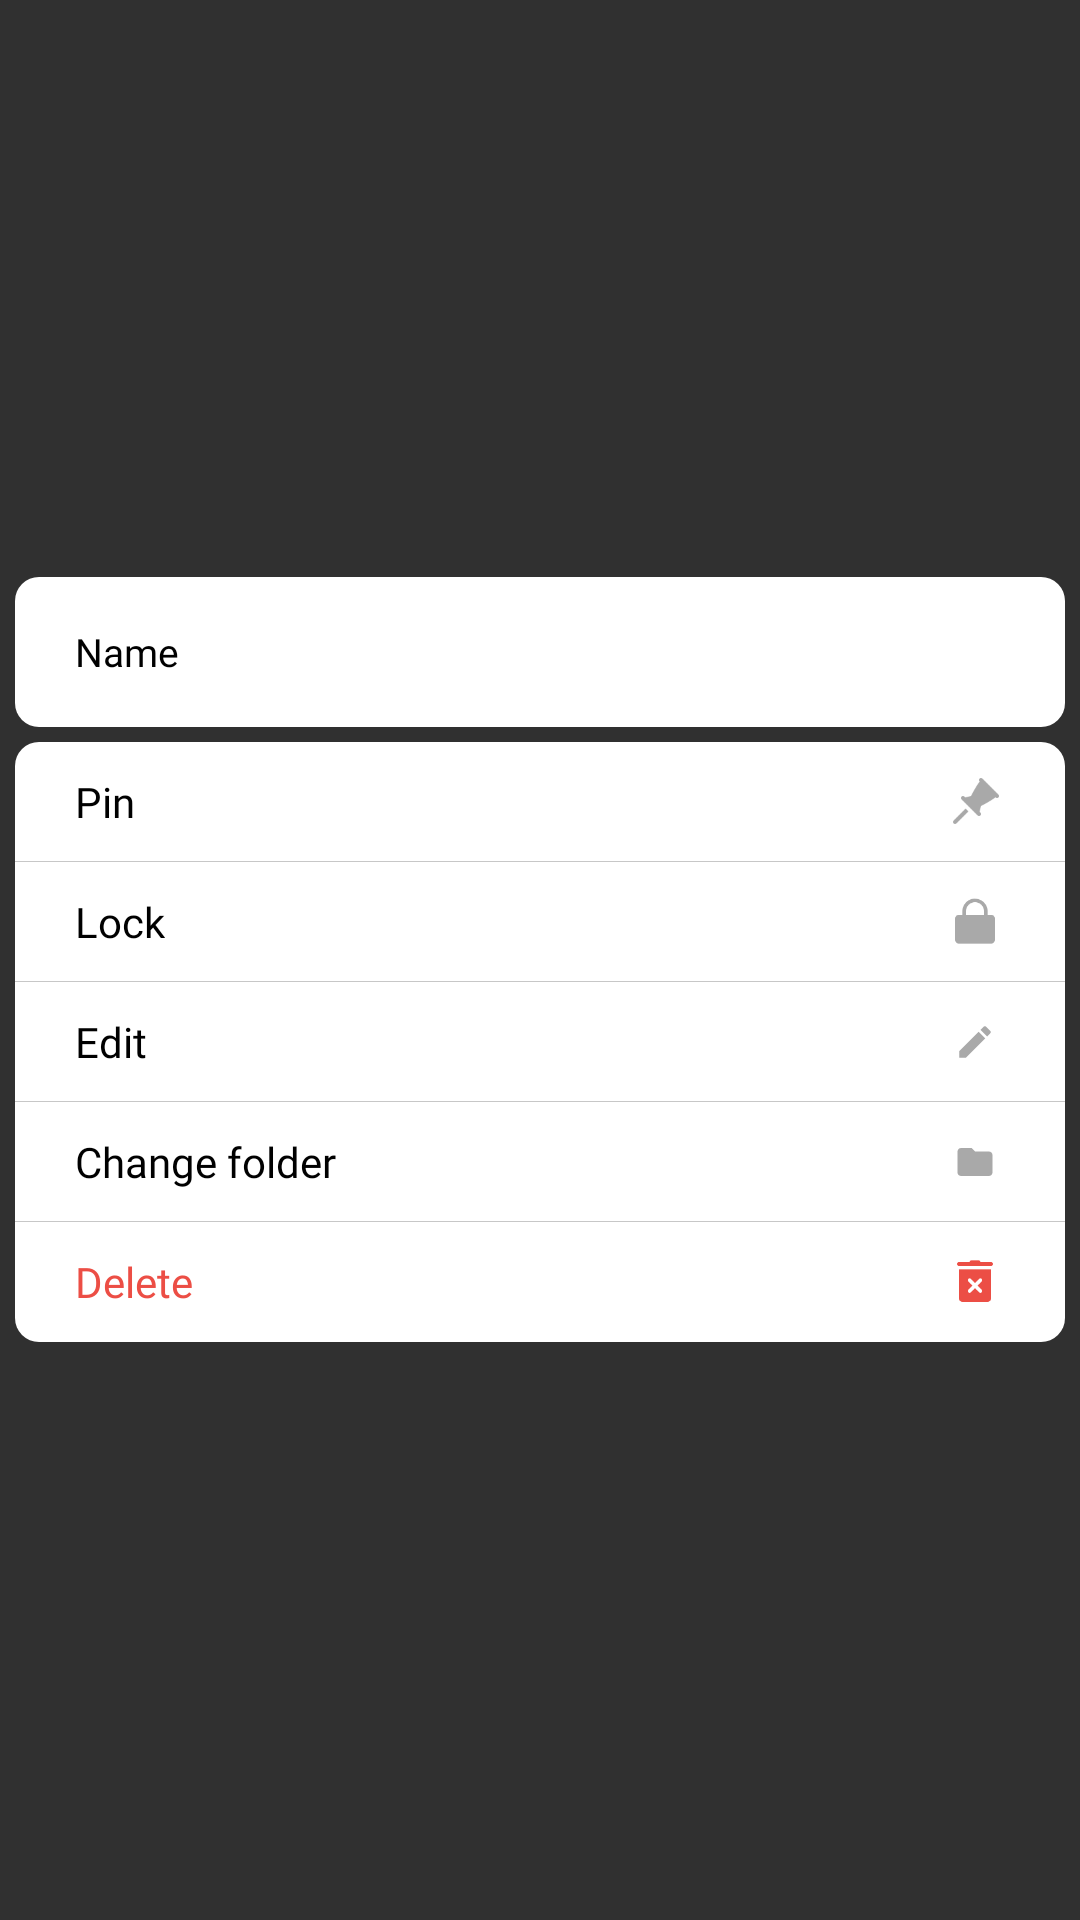

Where icons sit on this 1080w x 1920h app screen, as (x1, y1, x2, y2):
delete dl: (957, 1260, 993, 1302)
edit: (959, 1026, 991, 1058)
folder: (957, 1148, 993, 1176)
lock: (955, 898, 995, 944)
pin: (953, 778, 999, 824)
